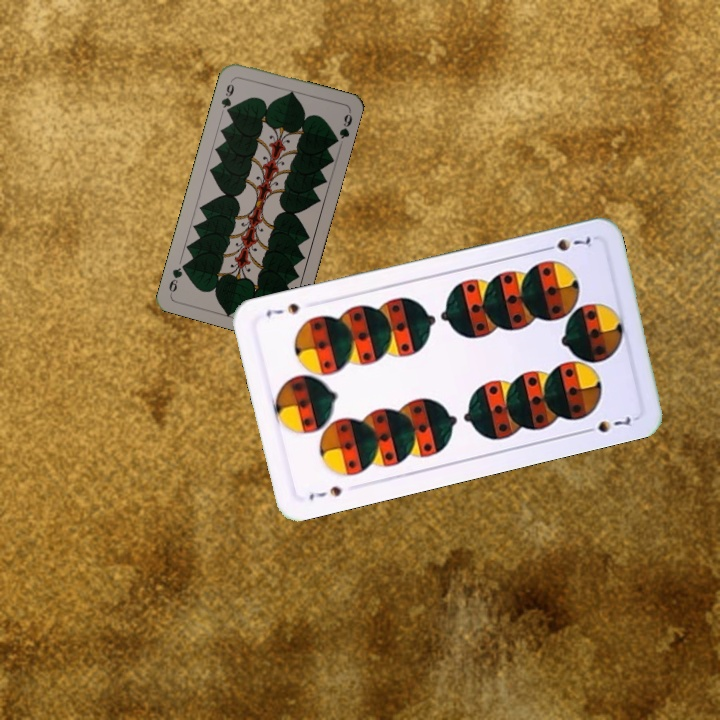G9: (217, 75, 237, 116)
S7: (538, 232, 596, 254), (305, 481, 344, 503)
